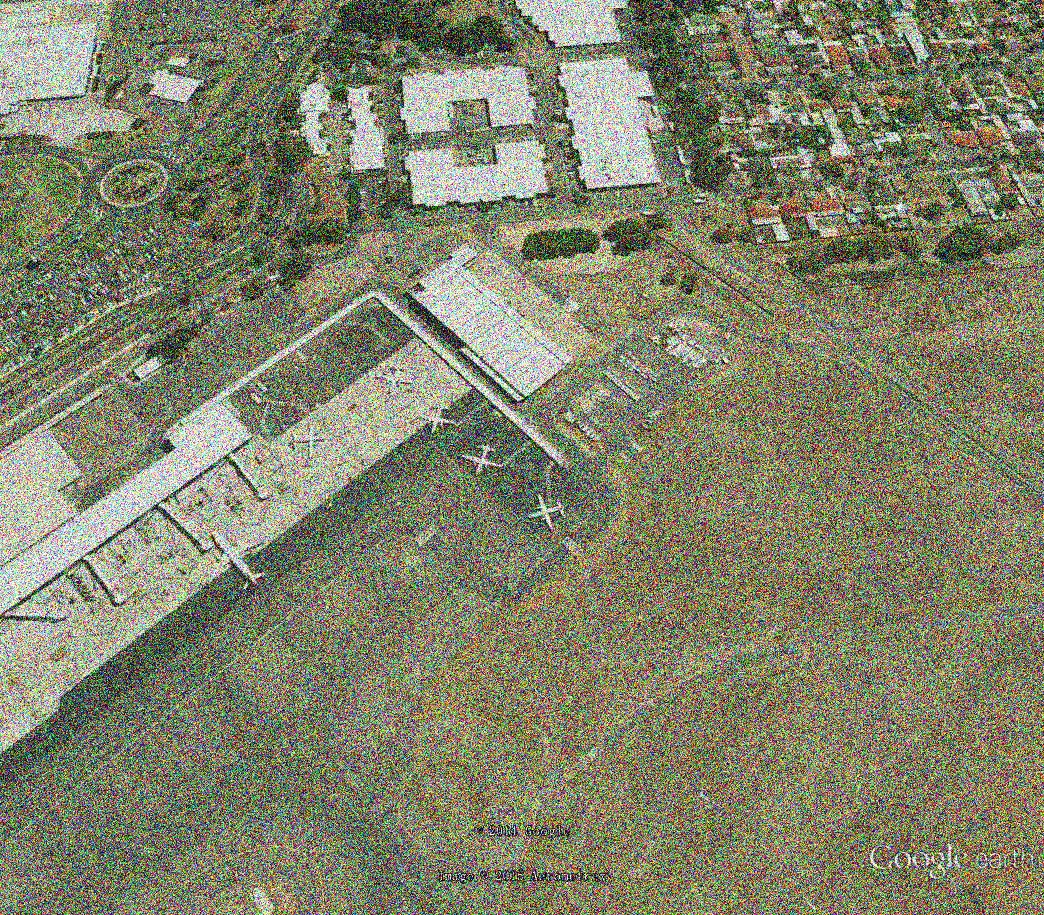aircraft: (205, 532, 273, 597), (528, 490, 573, 534), (459, 442, 507, 480), (289, 420, 327, 466), (373, 361, 415, 397), (414, 403, 460, 435)
